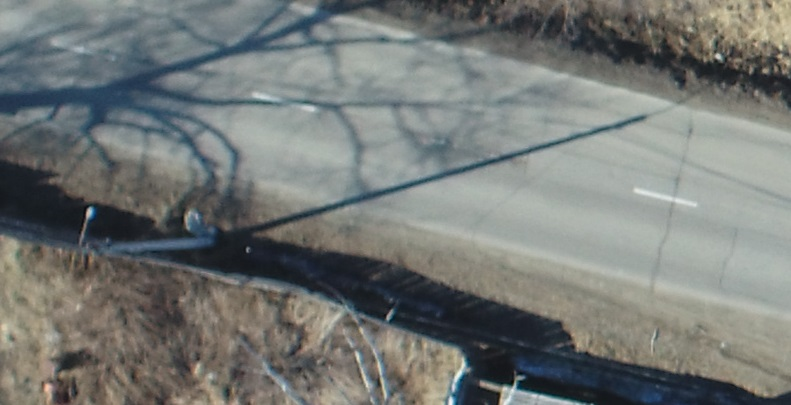opora: (77, 198, 336, 253)
